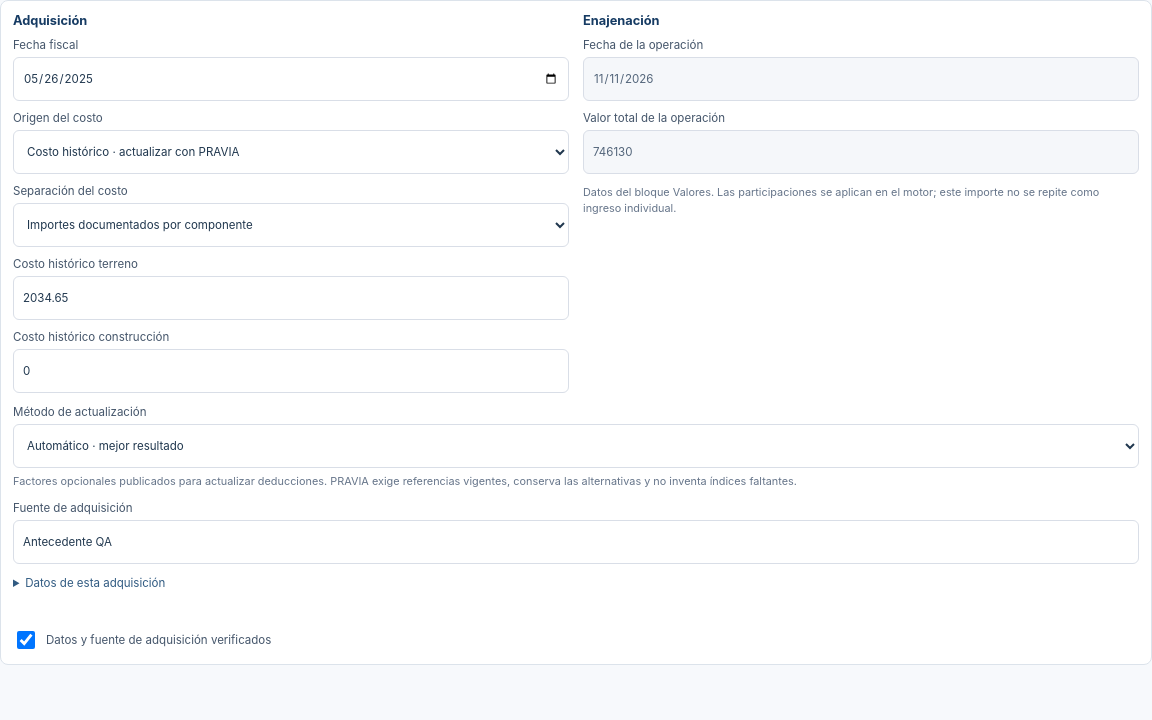
ISR · hoja técnica inmutable y adquisición progresiva › separación supletoria pide un total, no obliga a inventar dos importes
The image size is (1152, 720).
Select "Regla supletoria de la política fiscal vigente" in the dropdown labelled "Separación del costo" at (291, 225), box left=13, top=203, right=569, bottom=247
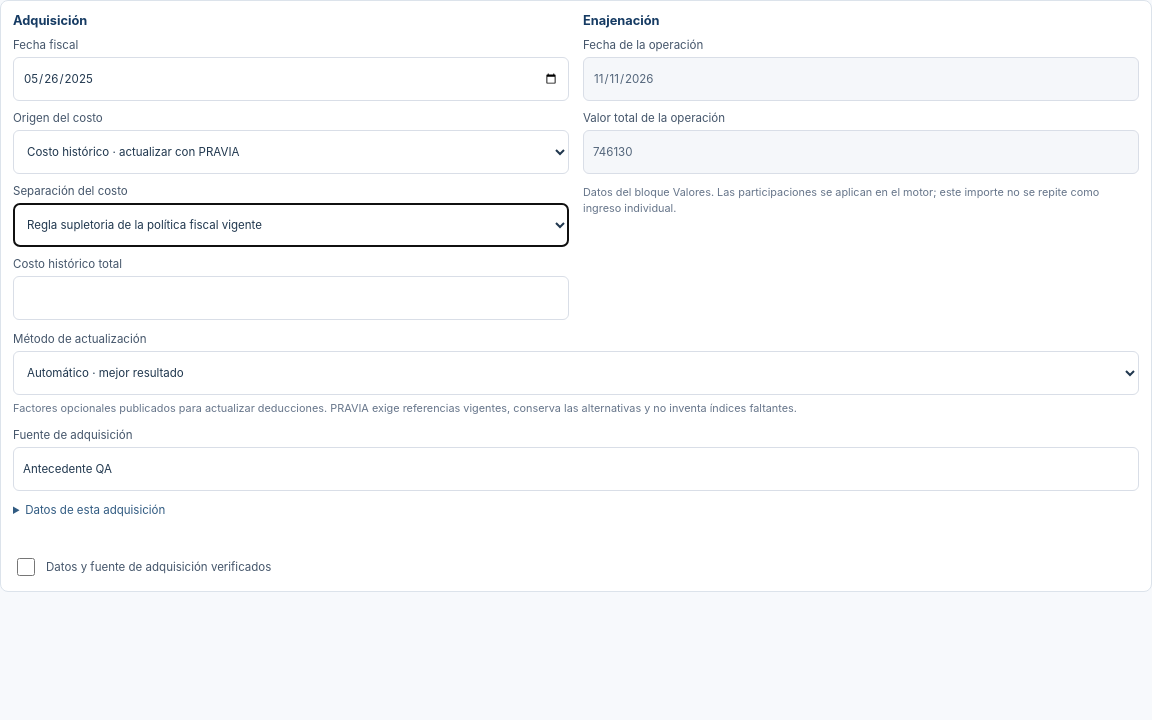
Expected: the field labelled "Costo histórico total" is shown, left=13, top=276, right=569, bottom=320
Expected: the label labelled "Costo histórico terreno" is gone
Expected: the label labelled "Costo histórico construcción" is gone
